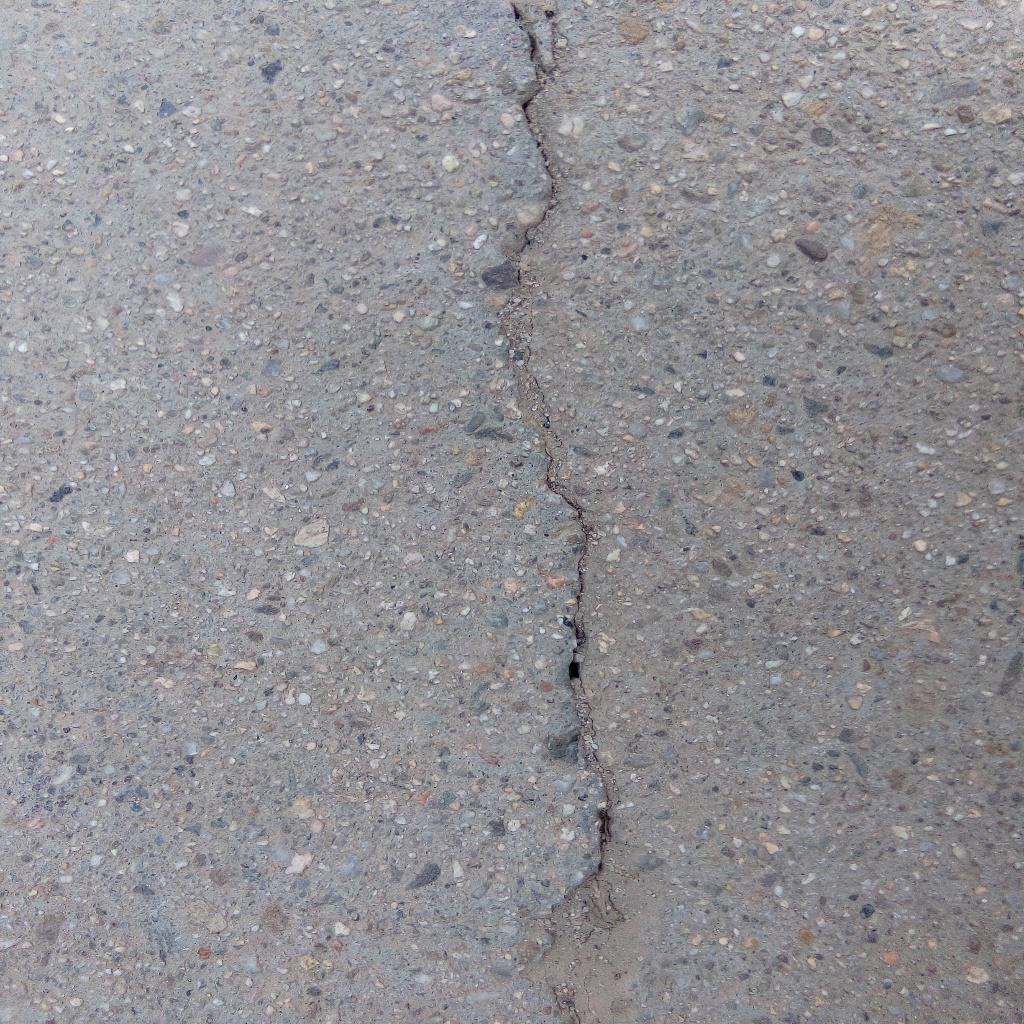Crack: (495, 1, 613, 1024)
